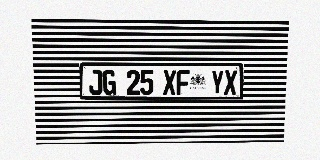2: (127, 70, 140, 95)
5: (140, 70, 153, 95)
F: (176, 70, 190, 95)
G: (102, 70, 116, 95)
J: (89, 70, 102, 95)
X: (163, 70, 176, 95), (224, 70, 237, 94)
Y: (211, 70, 224, 95)
